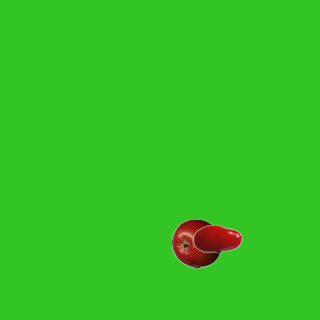Apple Braeburn: (171, 218, 221, 268)
Tomato 2: (192, 213, 242, 263)
